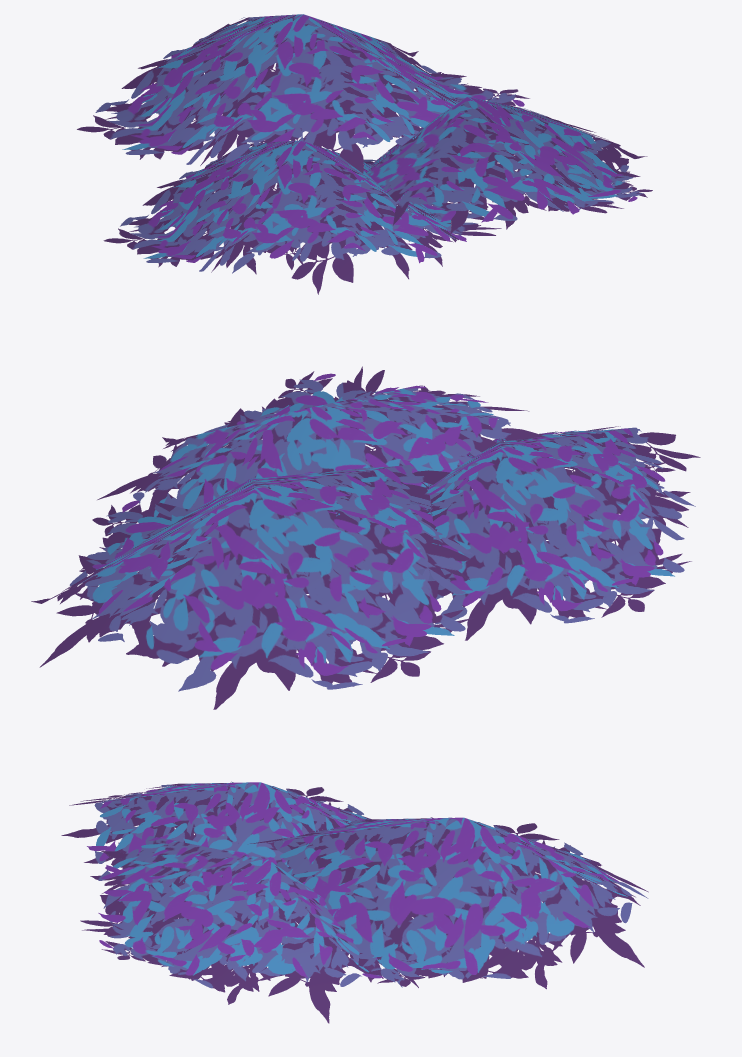
Rendered from blue_purple_bush.fbx.
The picture shows the model from 3 angles, top to bottom: view 1: azimuth 30°, elevation 25°; view 2: azimuth 150°, elevation 25°; view 3: azimuth 270°, elevation 25°; orthographic projection. The views are drawn at different scales.
Parts seen in each view (by area): view 1: pPlane121; view 2: pPlane121; view 3: pPlane121.
Boxes of the visible parts, left/top/right/bottom form: pPlane121: left=77, top=14, right=652, bottom=294; pPlane121: left=31, top=366, right=700, bottom=709; pPlane121: left=61, top=781, right=648, bottom=1023.
Bounding box in the file's own units: 1.83 × 0.3966 × 2.07.
